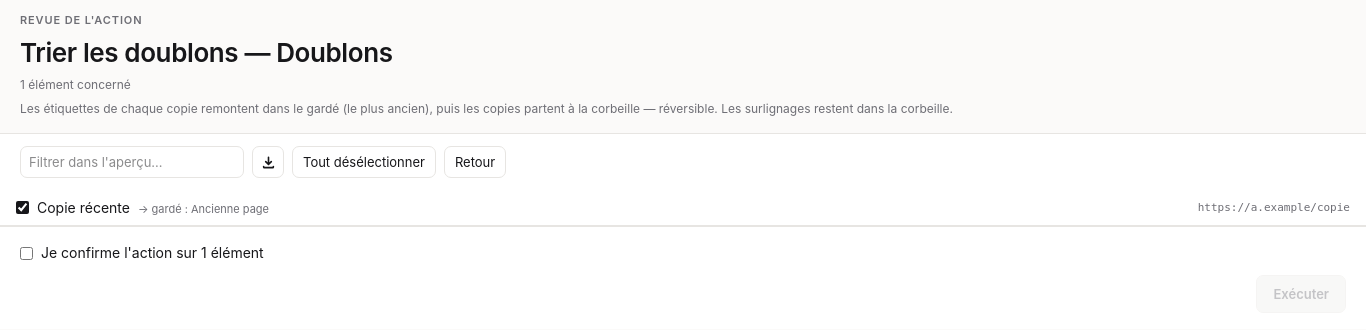
ReviewPage — le terme du job dedupe › un échec INDIVIDUEL au terme : la Revue tient, le résumé nomme, le retour se rouvre
Click the checkbox labelled "Je confirme l'action sur 1 élément": (26, 253) left=20, top=246, right=33, bottom=260
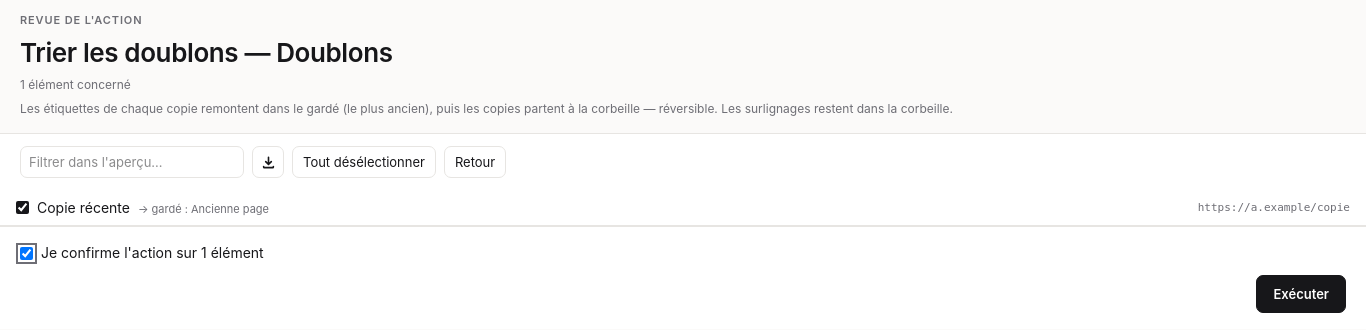
Click the button "Exécuter": (1301, 294) left=1256, top=275, right=1346, bottom=313
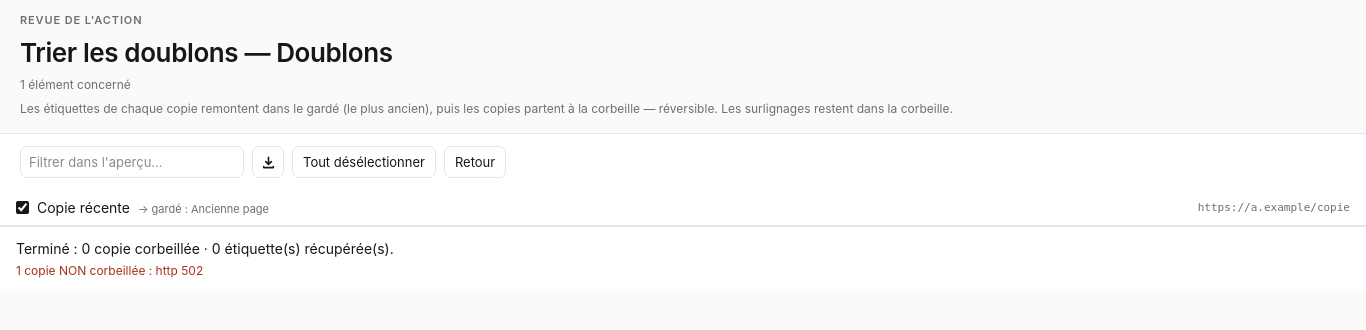
Expected: the button "Retour" is enabled, left=444, top=146, right=506, bottom=178
Now the text "Terminé : 0 copie corbeillée · 0 étiquette(s) récupérée(s)." is shown, box left=16, top=240, right=394, bottom=257
Now the text "1 copie NON corbeillée : http 502" is shown, box left=16, top=263, right=203, bottom=278
